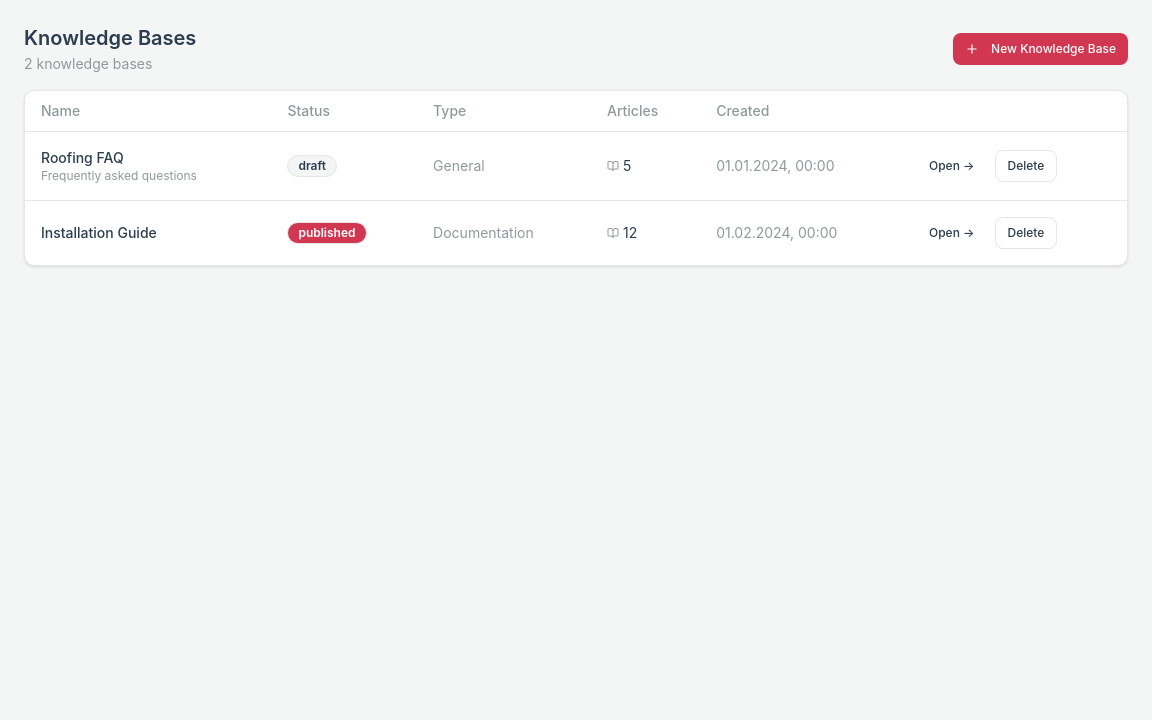
Test: KnowledgeBasesPage › shows kb-create-error when createMutation.isError is true
The image size is (1152, 720).
Step 1. Click the button with test id "kb-create-button" → (1041, 49), box [953, 33, 1128, 65]
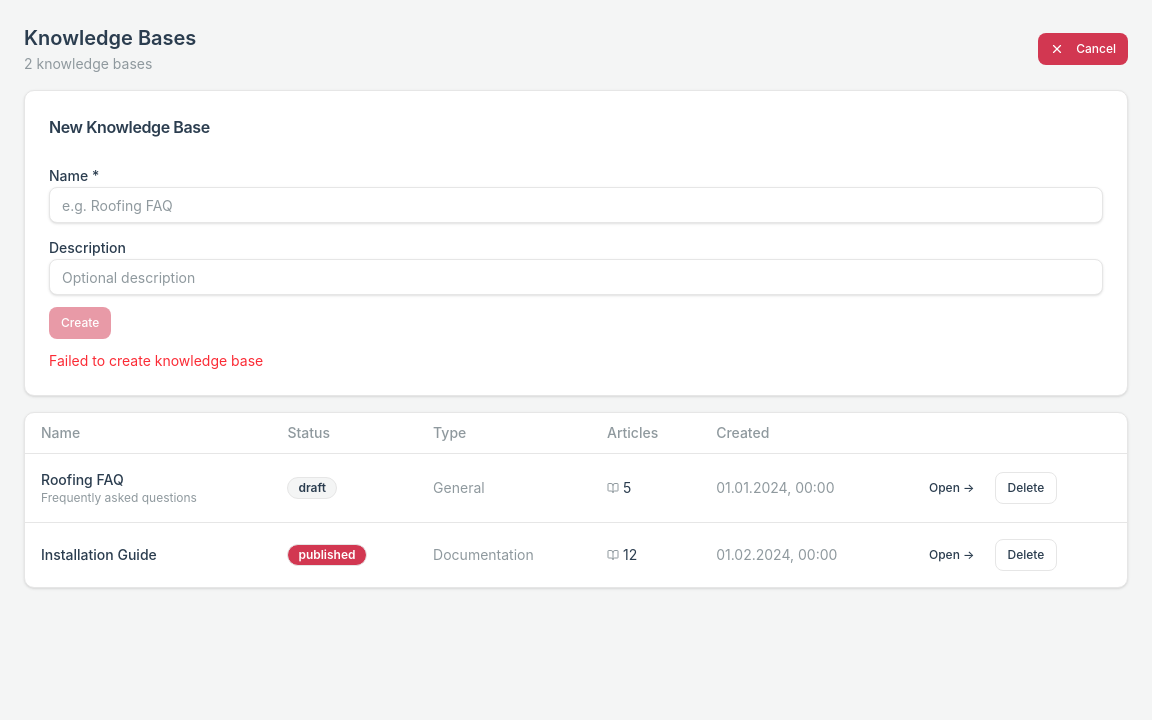
Check: the text with test id "kb-create-error" reads "Failed to create knowledge base", box [49, 352, 263, 369]
